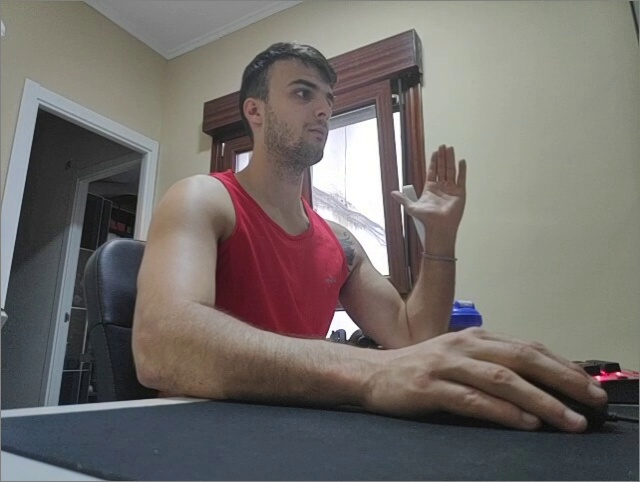Palm: (389, 142, 468, 229)
